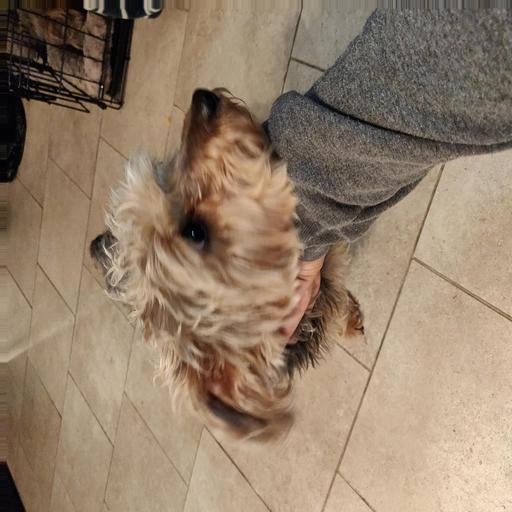dog: (73, 92, 377, 396)
